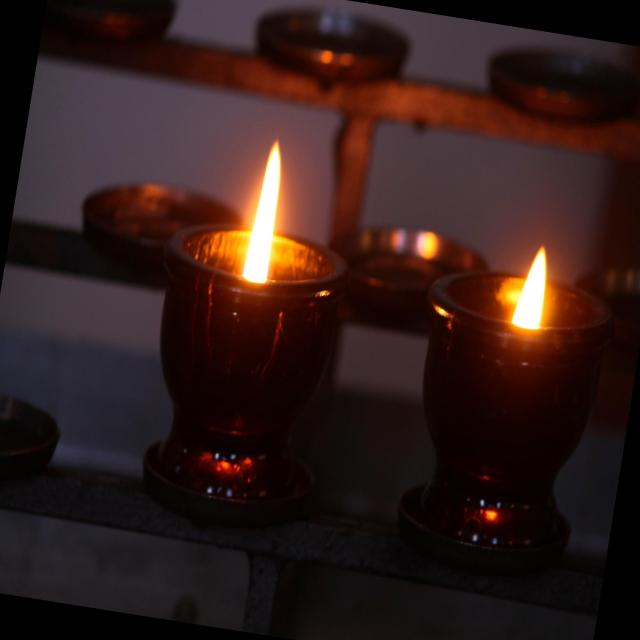Fire_Save: (124, 124, 370, 532), (387, 228, 623, 574)
